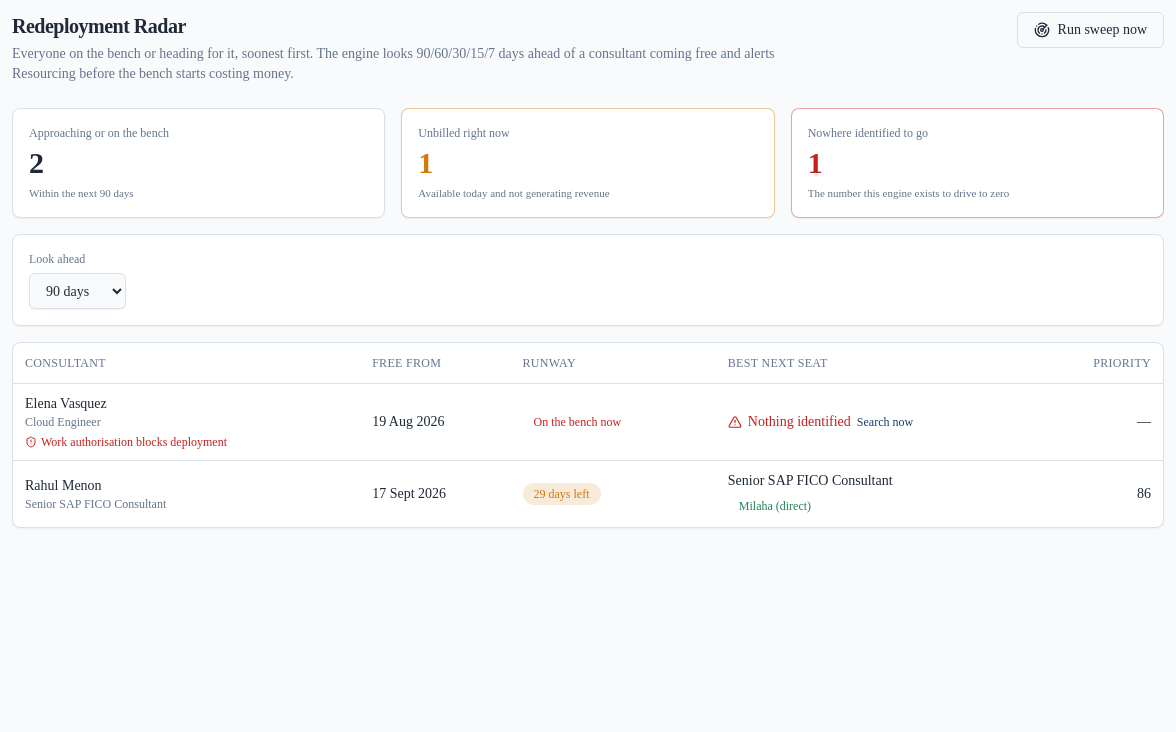
Scenario: bench radar › reports the dedupe outcome after a sweep
Expected: the link "Rahul Menon" is shown, [25, 478, 102, 492]
Click the button "Run sweep now": (1090, 30) [1017, 12, 1164, 48]
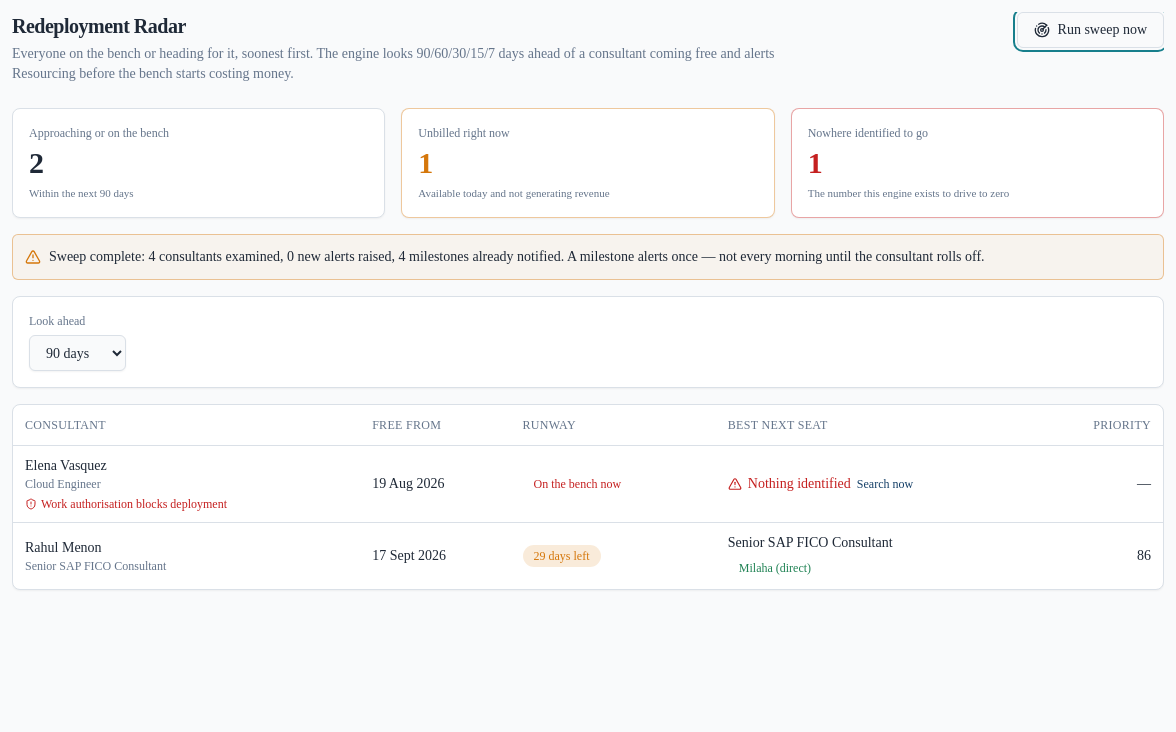
Expected: the text "Sweep complete" is shown, [49, 249, 148, 264]
Expected: the text "alerts once — not every morning" is shown, [406, 249, 985, 264]
